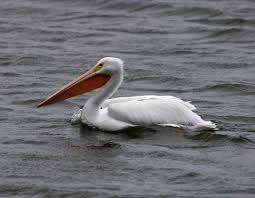pelican: (38, 57, 218, 133)
